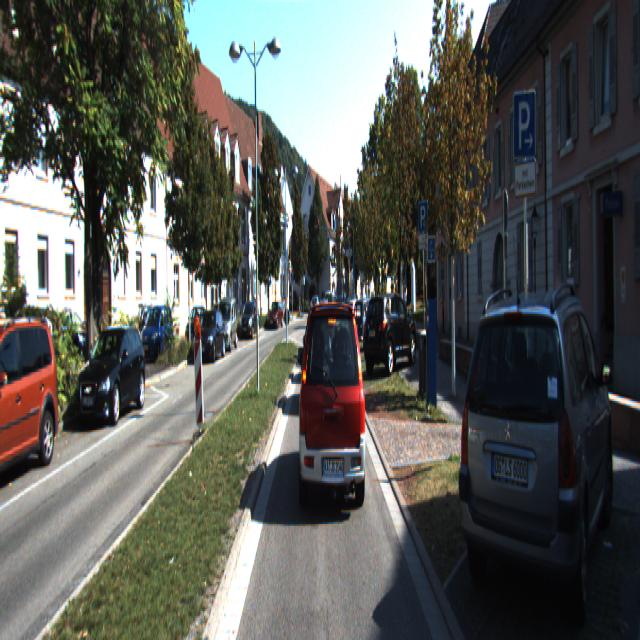Car: (459, 284, 616, 638), (300, 298, 370, 516), (0, 316, 61, 490), (73, 328, 147, 430), (362, 291, 418, 374), (138, 304, 174, 360), (350, 296, 384, 351), (193, 309, 227, 363), (341, 298, 373, 340), (215, 297, 238, 354), (240, 300, 261, 339), (266, 301, 286, 329)
